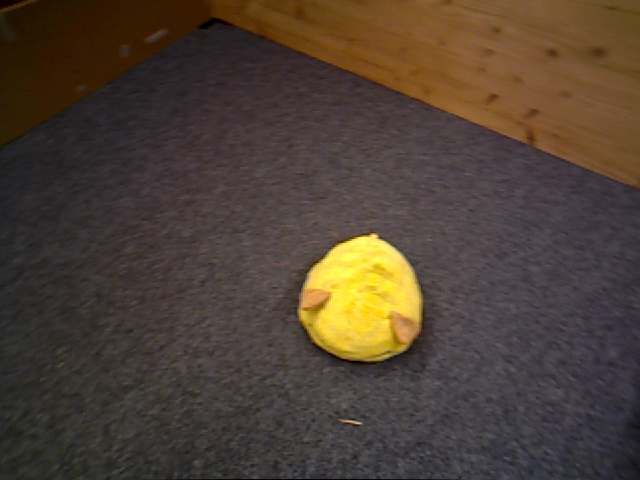grasp: (297, 230, 423, 364)
